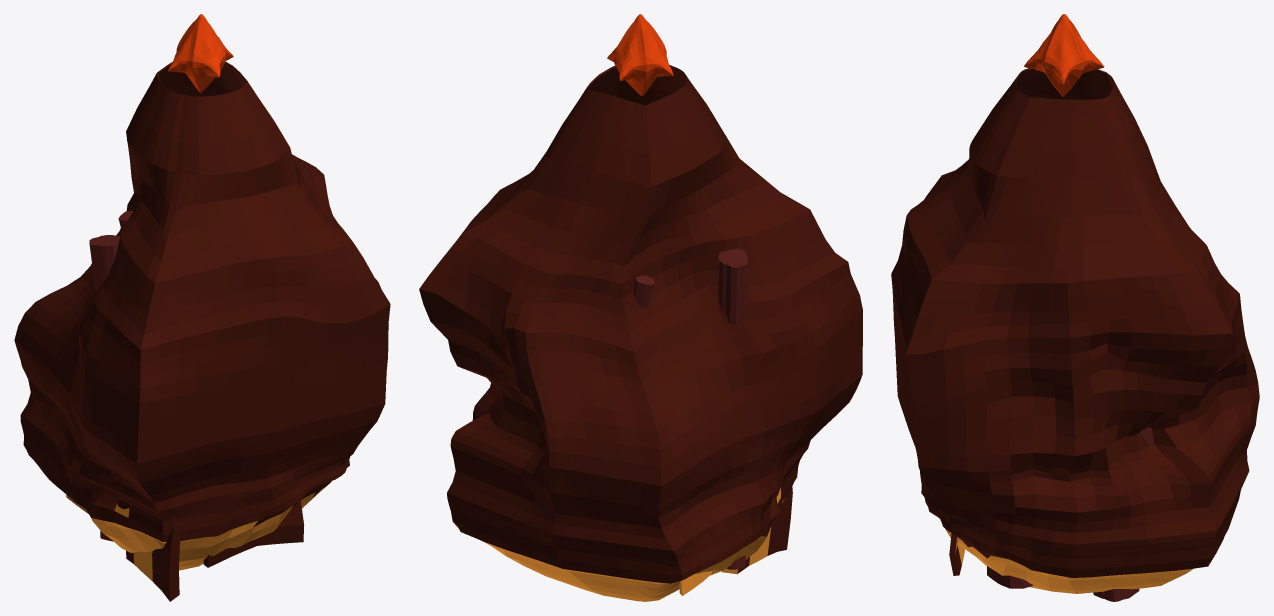
File: AshenRuinsLV3V1.1.fbx
3 views of the same model, side by side, from view 1: azimuth 30°, elevation 25°; view 2: azimuth 150°, elevation 25°; view 3: azimuth 270°, elevation 25° (orthographic). The views are drawn at different scales.
Visible parts, largest first — view 1: Plane.133, Plane.134, Plane.127; view 2: Plane.133, Plane.134, Plane.127; view 3: Plane.133, Plane.134, Plane.132.
Part boxes in pixels (x1,y1,x2,y2): Plane.133: [14, 61, 390, 601]; Plane.134: [168, 14, 233, 92]; Plane.127: [89, 235, 119, 541]; Plane.133: [419, 65, 862, 601]; Plane.134: [607, 14, 673, 96]; Plane.127: [717, 248, 747, 569]; Plane.133: [891, 68, 1259, 593]; Plane.134: [1024, 14, 1104, 96]; Plane.132: [1093, 427, 1154, 601].
Size of the model in its own units: 14786 by 26233 by 15573.
